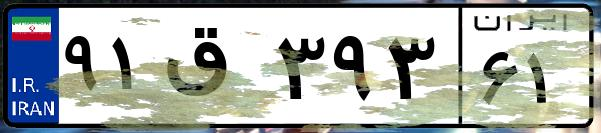1: (525, 38, 570, 115), (110, 28, 158, 98)
3: (270, 28, 330, 110), (385, 28, 445, 110)
6: (475, 38, 525, 113)
9: (330, 28, 385, 110), (57, 26, 110, 100)
ق: (158, 20, 270, 120)
